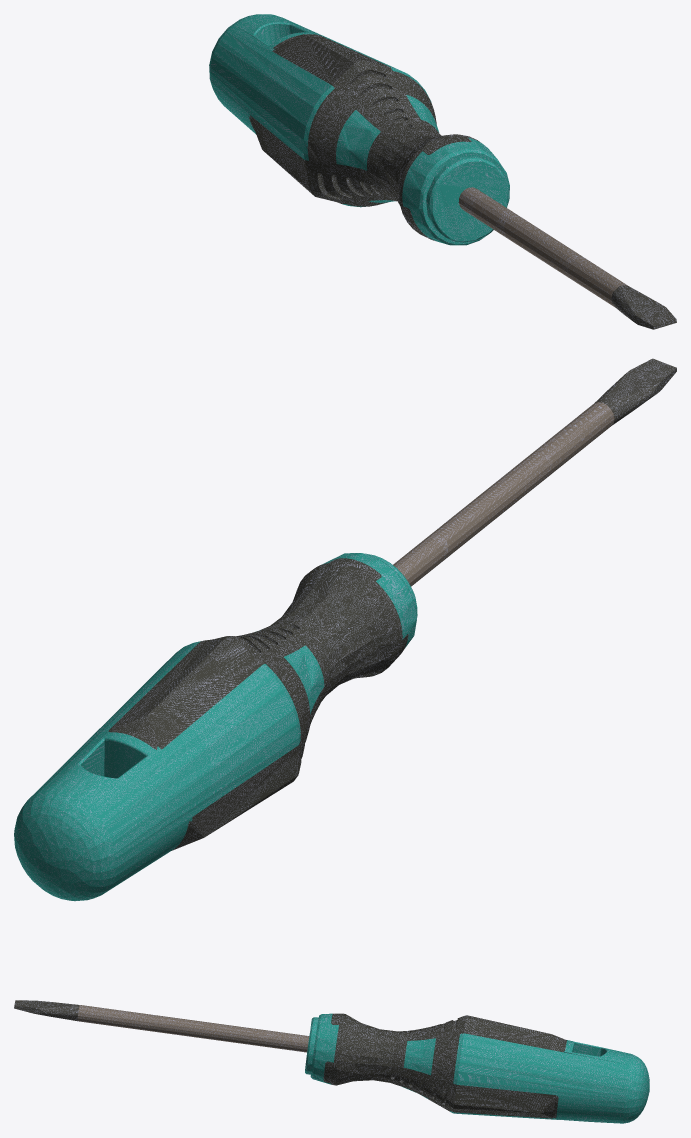
The picture shows the model from 3 angles, top to bottom: view 1: azimuth 30°, elevation 25°; view 2: azimuth 150°, elevation 25°; view 3: azimuth 270°, elevation 25°; orthographic projection. The views are drawn at different scales.
Parts seen in each view (by area): view 1: D9010Man (×4), D9010Pun, D9010Tip; view 2: D9010Man (×4), D9010Pun, D9010Tip; view 3: D9010Man (×4), D9010Pun, D9010Tip.
Boxes of the visible parts, box(x1,y1,x2,y2) form: D9010Man (×4): box(209, 14, 509, 245); D9010Pun: box(458, 187, 628, 307); D9010Tip: box(611, 285, 676, 329); D9010Man (×4): box(14, 553, 417, 901); D9010Pun: box(393, 402, 614, 586); D9010Tip: box(595, 358, 676, 425); D9010Man (×4): box(305, 1013, 649, 1123); D9010Pun: box(77, 1005, 309, 1052); D9010Tip: box(14, 1000, 79, 1020).
Size of the model in its own units: 103066 by 353483 by 57766.
